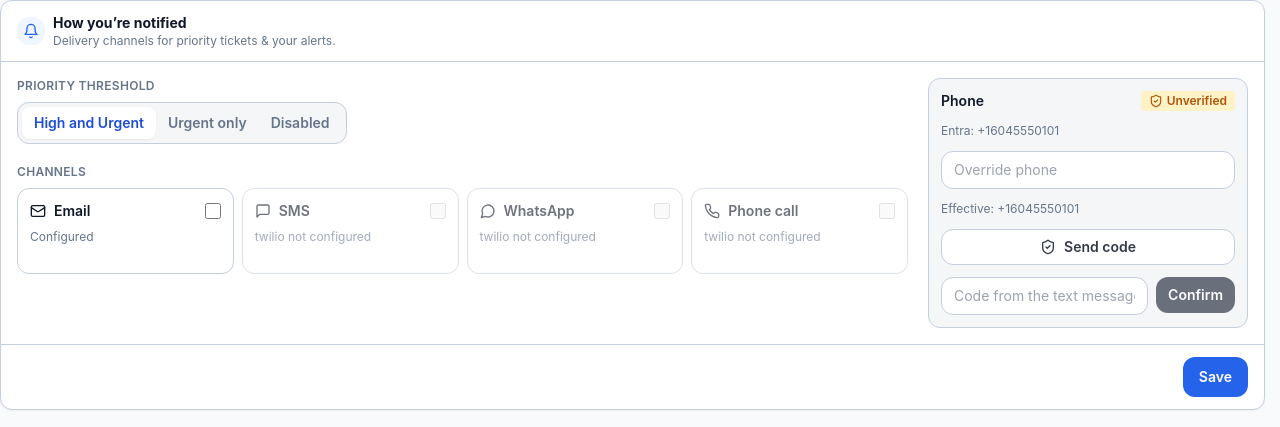
NotificationSettingsPanel › renders notification settings and saves threshold plus email opt-in
Expected: the text "Priority threshold" is shown, [17,78,155,93]
Expected: the checkbox labelled "SMS twilio not configured" is disabled, [430,203,446,219]
What coordinates should you click on to do the following:
click the button "Urgent only"
I would click on:
 (207, 123)
Its box is [156,107,259,139].
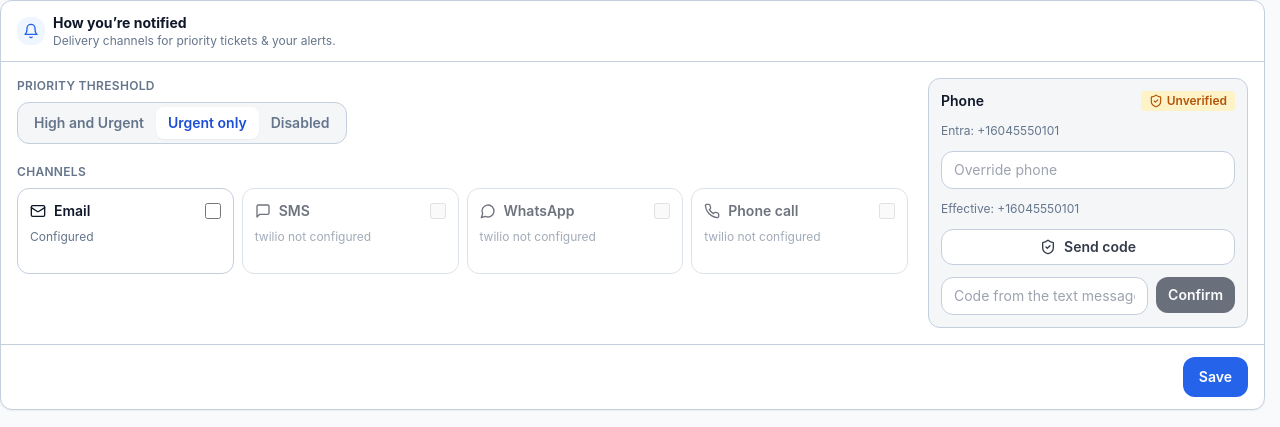
What coordinates should you click on to do the following:
click the checkbox labelled "Email Configured"
I would click on:
 (213, 211)
Its box is [205,203,221,219].
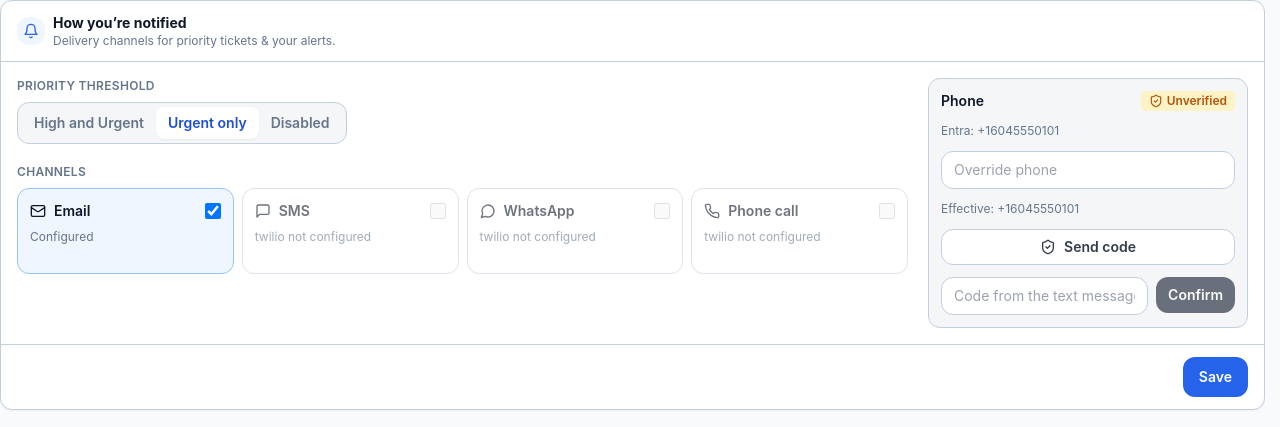
What coordinates should you click on to do the following:
click the button "Save"
I would click on:
 (1215, 377)
Its box is [1183,357,1248,397].
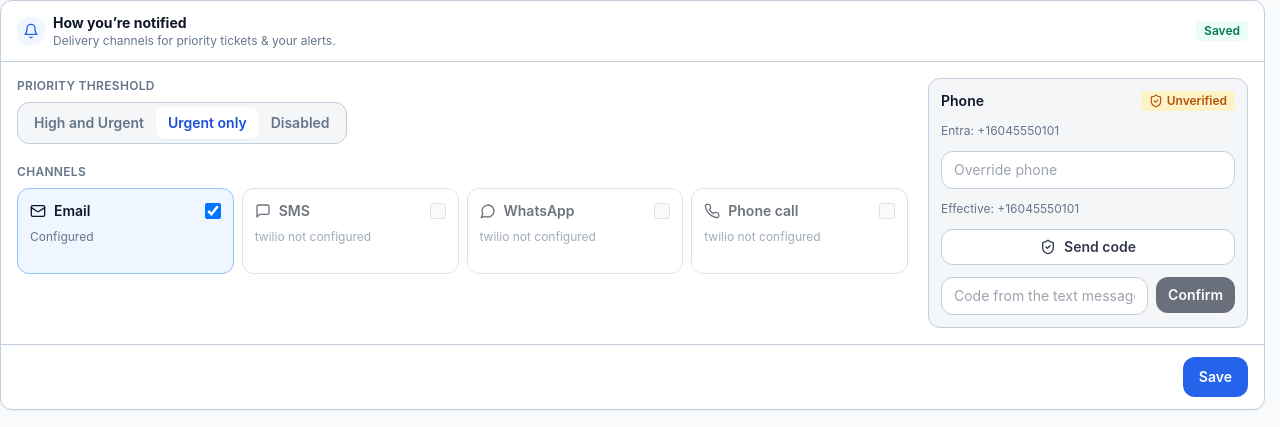
Result: the text "Saved" is shown at [1196,21,1248,41]
